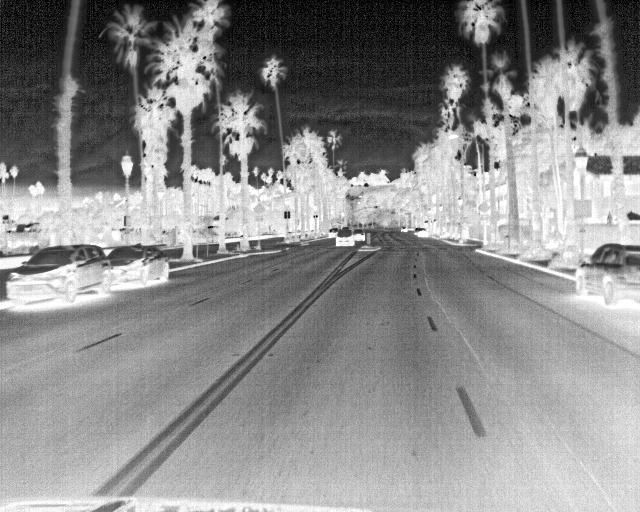car: (4, 243, 114, 306), (577, 243, 639, 305), (109, 246, 168, 284), (334, 228, 356, 247), (326, 226, 341, 239), (352, 229, 366, 242), (412, 225, 426, 237), (400, 225, 409, 234)
